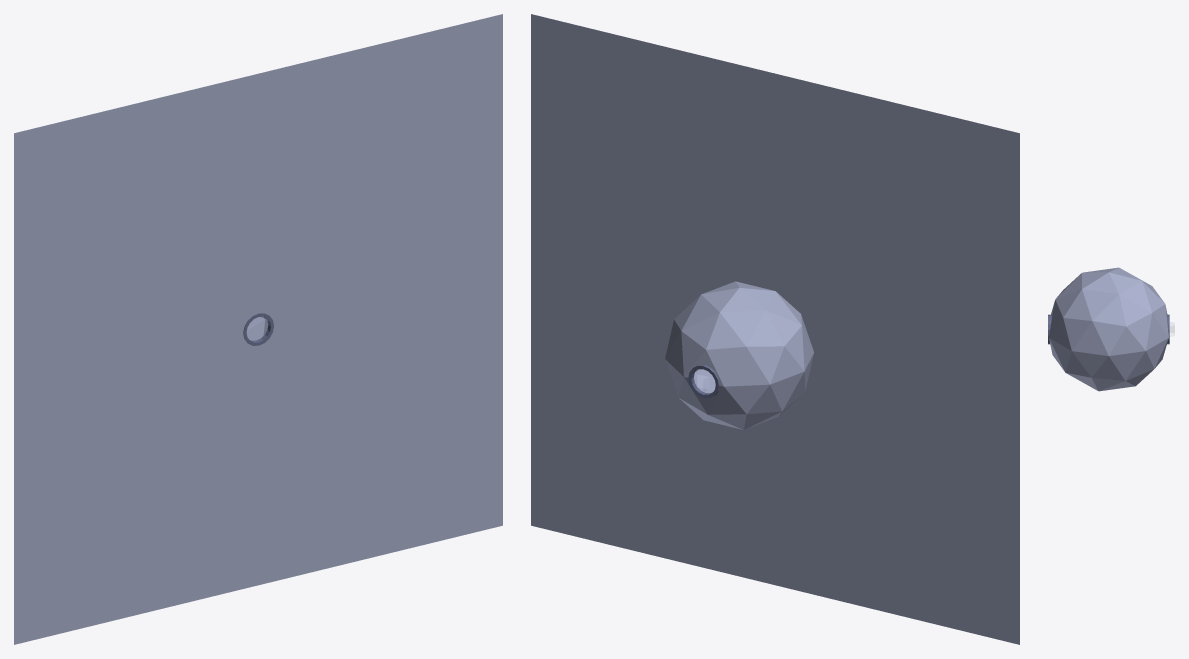
Rendered from Dbse5yCa.glb.
The picture shows the model from 3 angles, left to right: view 1: azimuth 30°, elevation 25°; view 2: azimuth 150°, elevation 25°; view 3: azimuth 270°, elevation 25°; orthographic projection. The views are drawn at different scales.
Parts seen in each view (by area): view 1: Plane; view 2: Plane, Icosphere; view 3: Icosphere.
Boxes of the visible parts, x1,y1,x2,y2 form: Plane: [14, 14, 502, 644]; Plane: [531, 14, 1019, 644]; Icosphere: [665, 281, 813, 429]; Icosphere: [1049, 267, 1168, 391].
Size of the model in its own units: 64 by 64 by 17.09.
